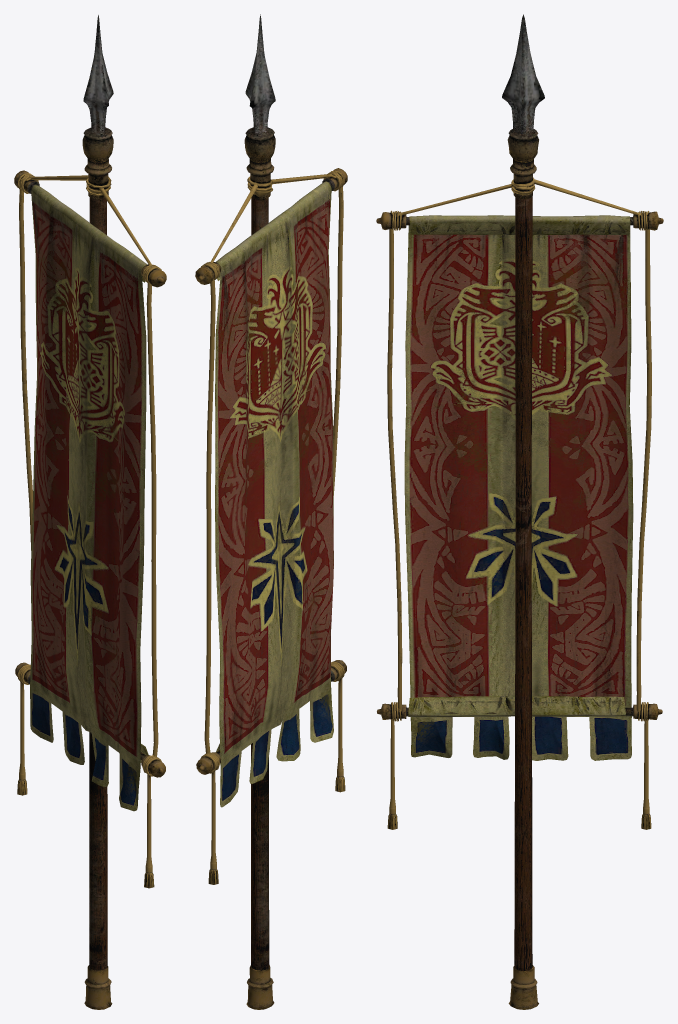
File: lan018.obj
3 views of the same model, side by side, from view 1: azimuth 30°, elevation 25°; view 2: azimuth 150°, elevation 25°; view 3: azimuth 270°, elevation 25° (orthographic).
Parts seen in each view (by area): view 1: lan018_003_LOD_1, lan018_002_LOD_1, lan018_000_LOD_1, lan018_001_LOD_1; view 2: lan018_003_LOD_1, lan018_002_LOD_1, lan018_000_LOD_1, lan018_001_LOD_1; view 3: lan018_003_LOD_1, lan018_002_LOD_1, lan018_000_LOD_1, lan018_001_LOD_1.
Part boxes in pixels (left/top/right/bottom): lan018_003_LOD_1: left=14, top=170, right=166, bottom=970; lan018_002_LOD_1: left=17, top=189, right=158, bottom=888; lan018_000_LOD_1: left=82, top=15, right=113, bottom=199; lan018_001_LOD_1: left=84, top=965, right=112, bottom=1009; lan018_003_LOD_1: left=195, top=168, right=347, bottom=970; lan018_002_LOD_1: left=204, top=186, right=345, bottom=884; lan018_000_LOD_1: left=244, top=14, right=275, bottom=199; lan018_001_LOD_1: left=246, top=965, right=274, bottom=1009; lan018_003_LOD_1: left=376, top=177, right=663, bottom=971; lan018_002_LOD_1: left=387, top=228, right=651, bottom=829; lan018_000_LOD_1: left=502, top=14, right=544, bottom=199; lan018_001_LOD_1: left=508, top=965, right=538, bottom=1009.
Size of the model in its own units: 16.6 by 370 by 97.29.
